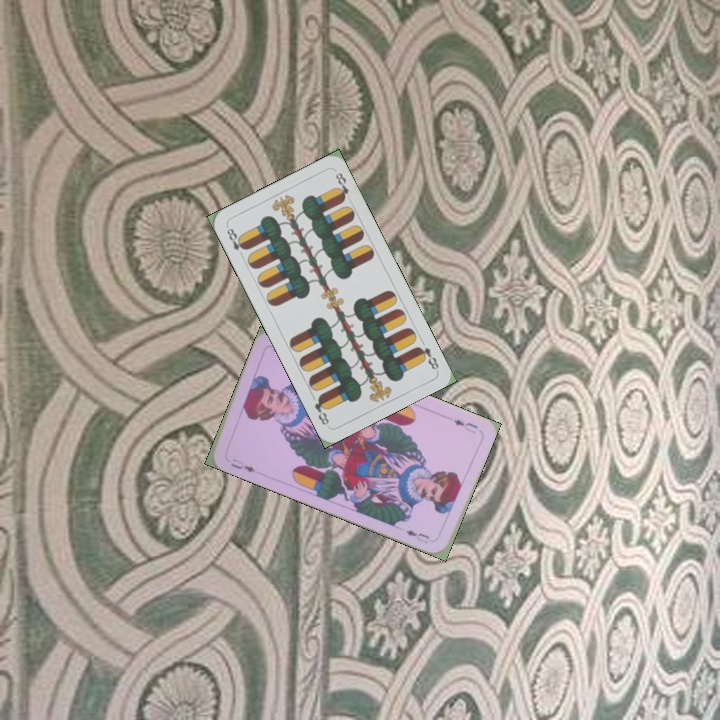E8: (222, 222, 249, 260), (412, 342, 441, 373)
EU: (226, 454, 258, 475), (449, 415, 480, 436)
